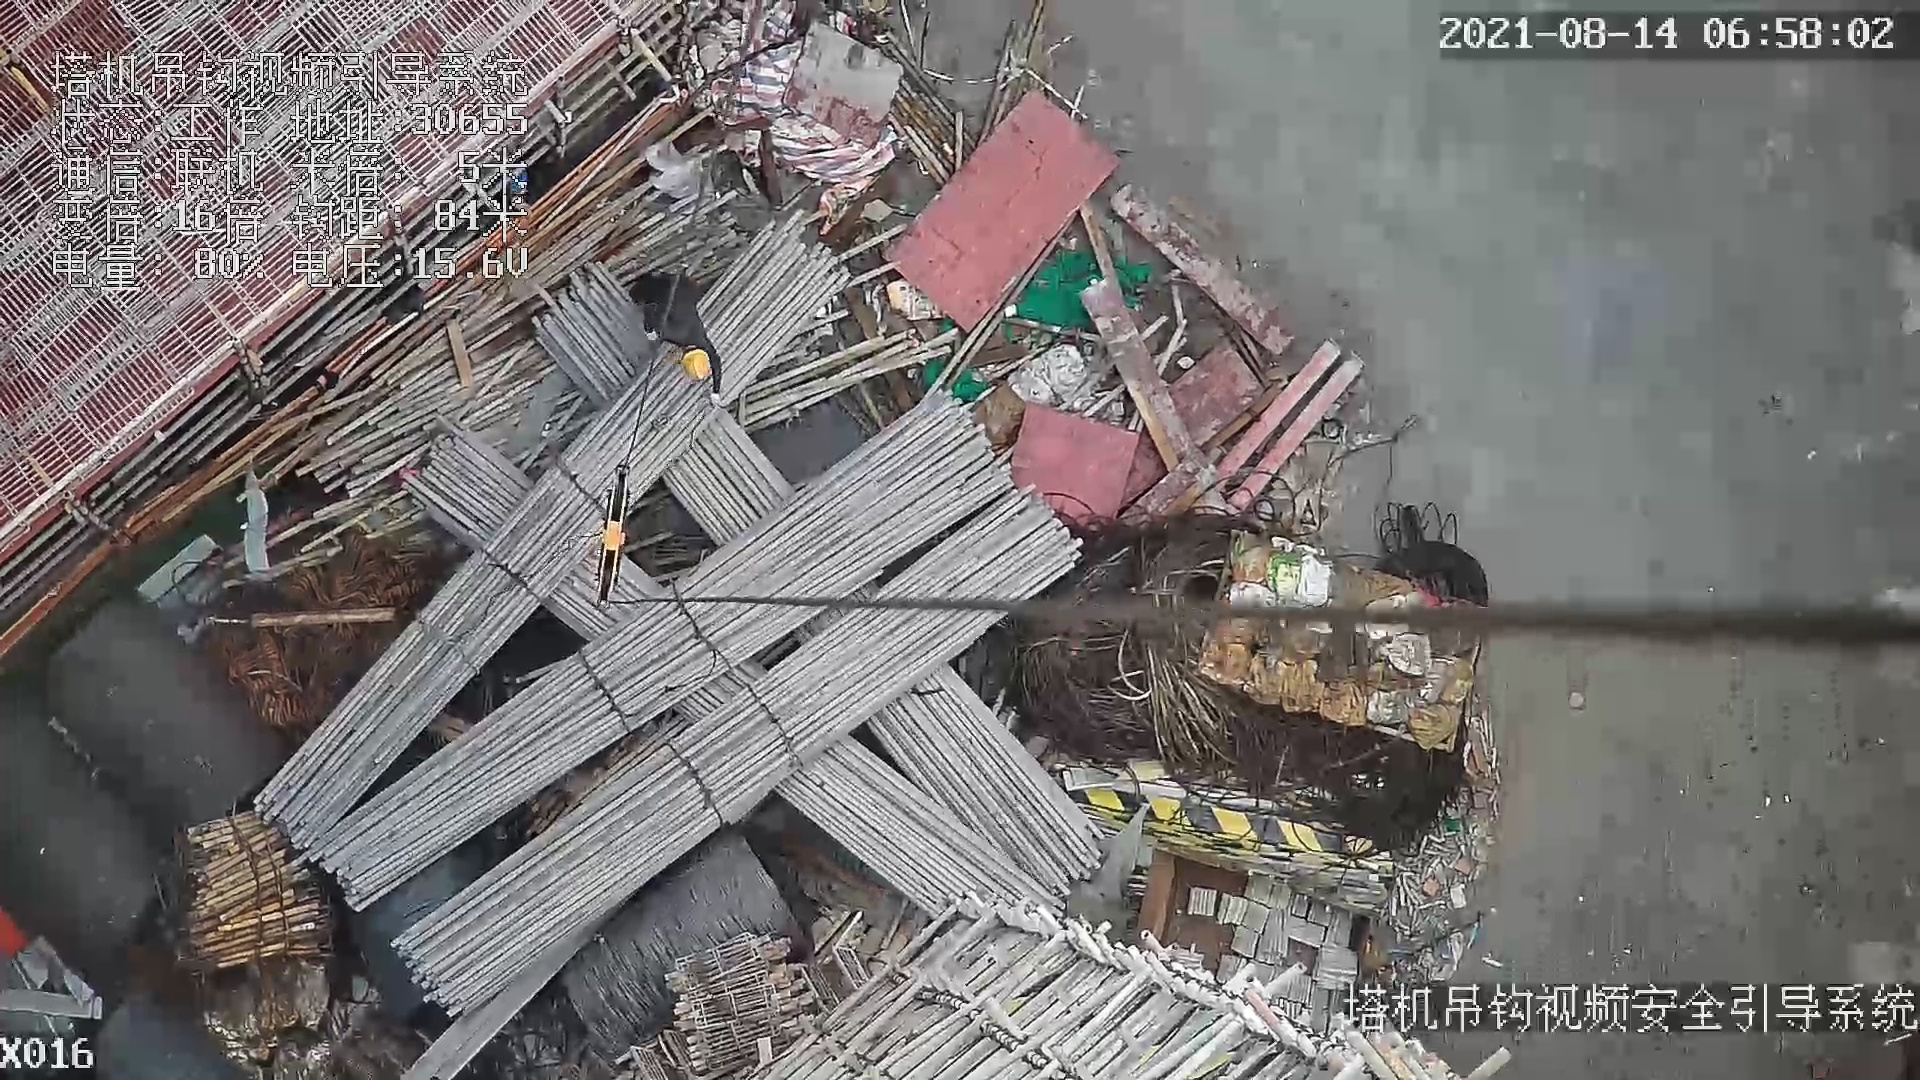helmet: (682, 349, 710, 381)
hook: (570, 453, 647, 604)
person: (615, 259, 732, 399)
rebar: (252, 216, 850, 854), (301, 384, 1011, 907), (386, 488, 1081, 1016), (770, 739, 1067, 919), (869, 669, 1104, 893)
scaffold: (171, 814, 340, 970)
